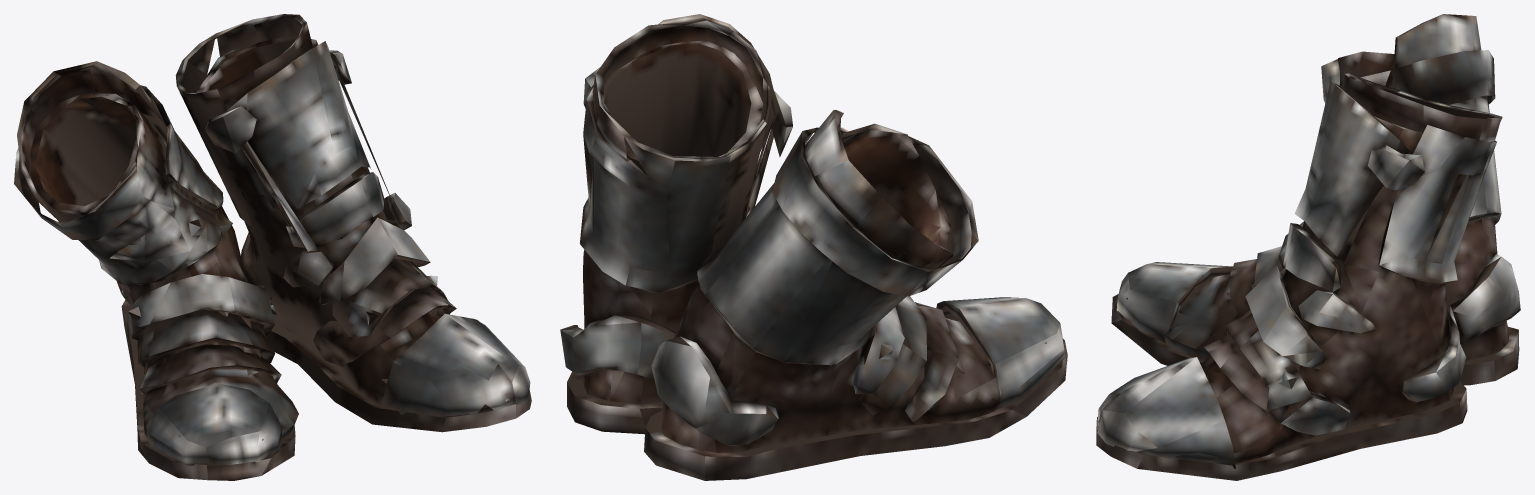
Rendered from item_6boots2.glb.
3 renders of one model, left to right at view 1: azimuth 30°, elevation 25°; view 2: azimuth 150°, elevation 25°; view 3: azimuth 270°, elevation 25°, orthographic. The views are drawn at different scales.
Visible parts, largest first — view 1: equipment_6boots2; view 2: equipment_6boots2; view 3: equipment_6boots2.
Part boxes in pixels (<box>): equipment_6boots2: <box>14,14,531,480</box>; equipment_6boots2: <box>560,14,1067,480</box>; equipment_6boots2: <box>1096,14,1520,480</box>.
Size of the model in its own units: 1 by 0.8565 by 0.9669.
Materials: 1 (1 with a texture image).
